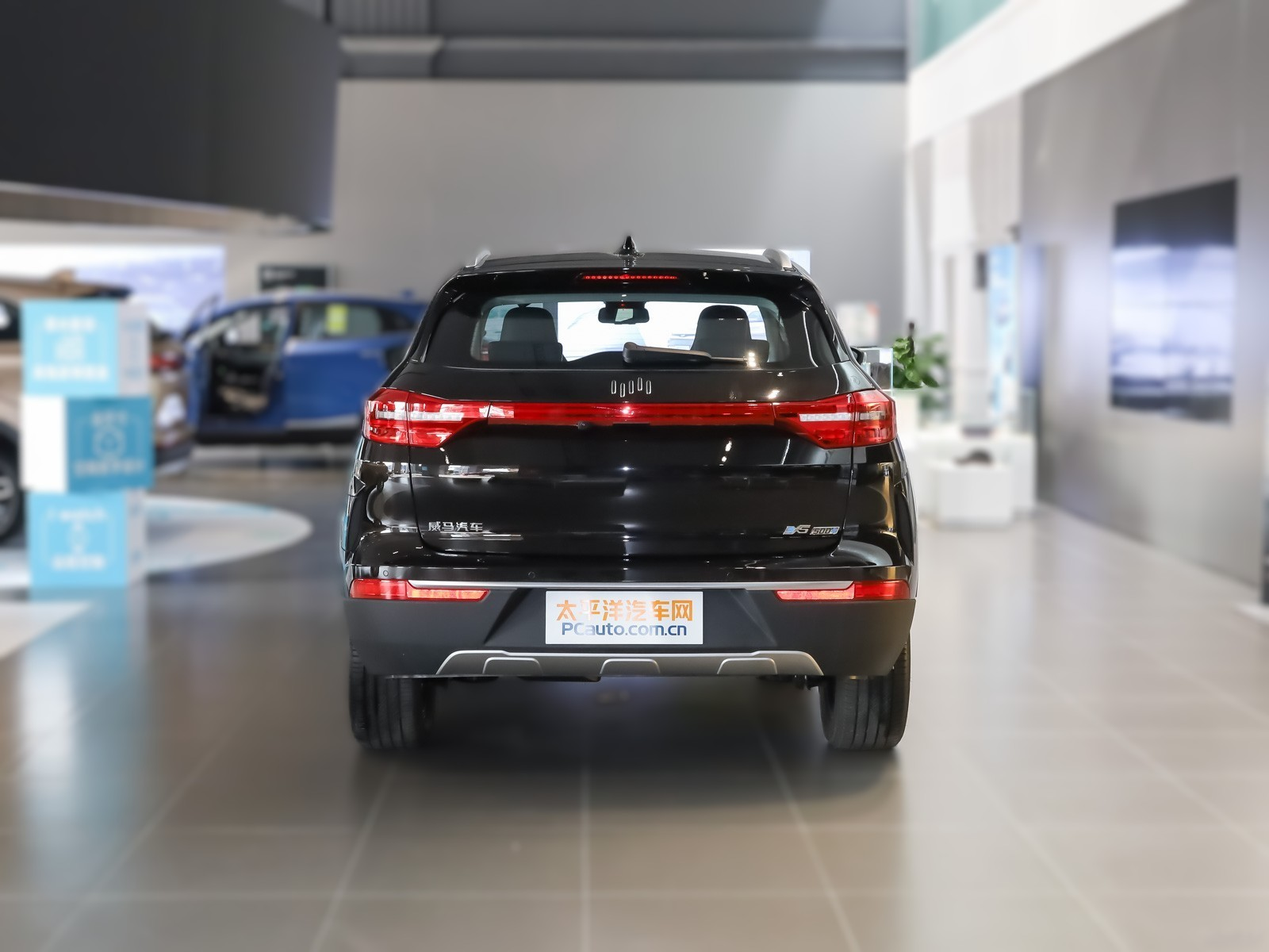WELTMEISTER: (612, 378, 650, 397)
